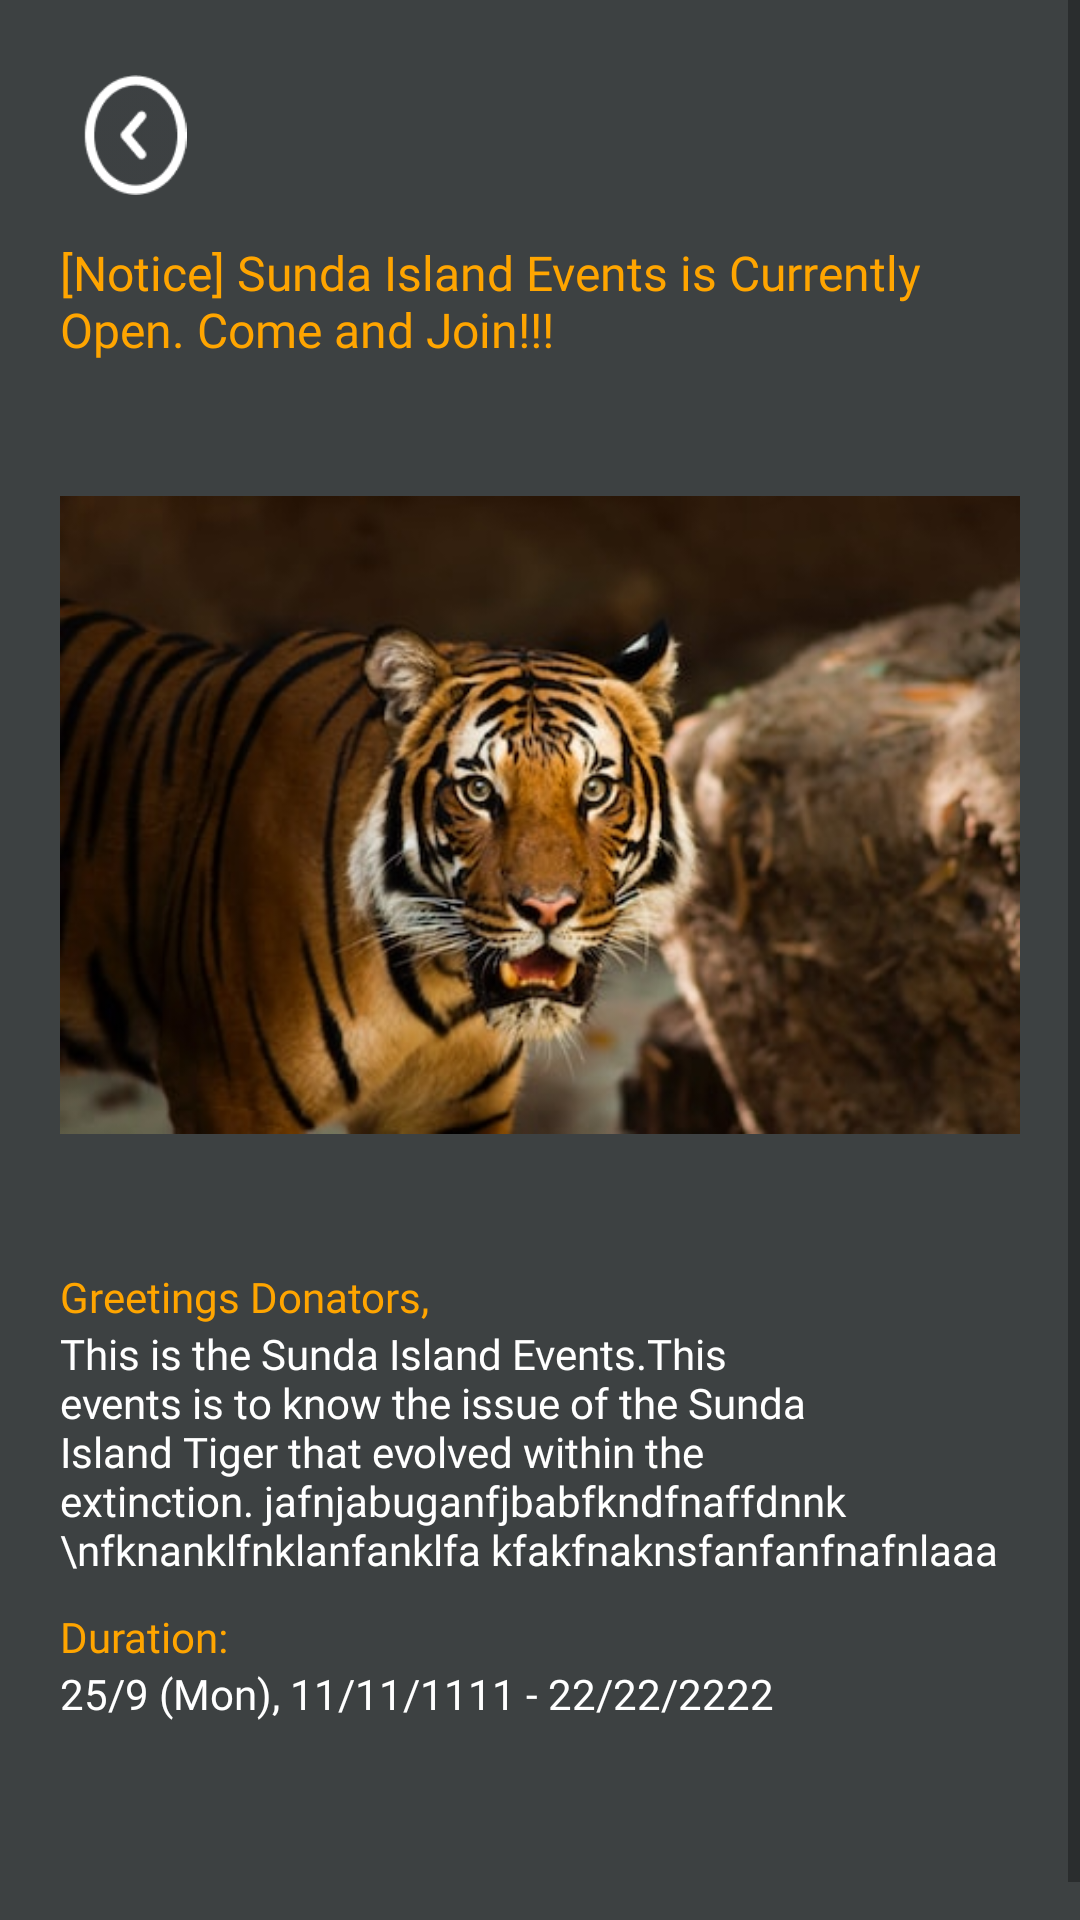

Named icons in this screenshot (1080×1920) and their bounding boxes, bbox=(x1, y1, x2, y2):
back: bbox=(84, 75, 187, 195)
